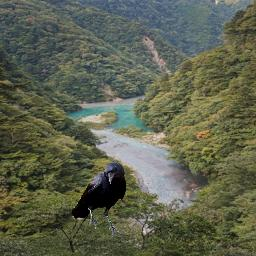Crow: (72, 162, 126, 237)
